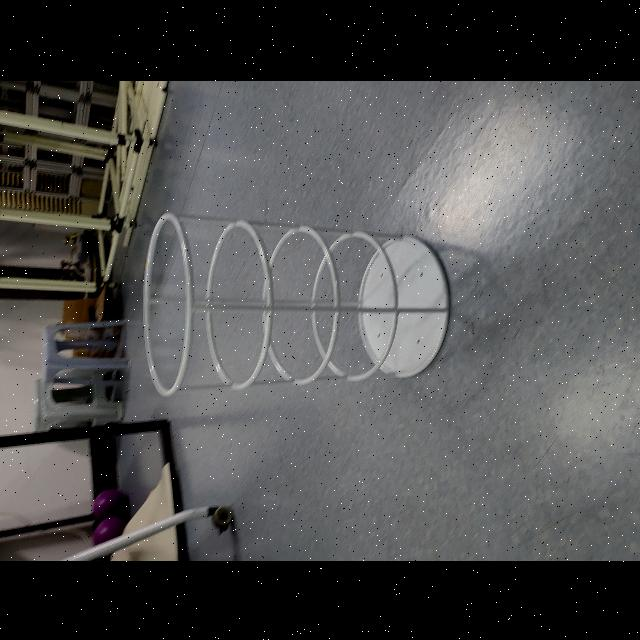S: (138, 208, 456, 396)
